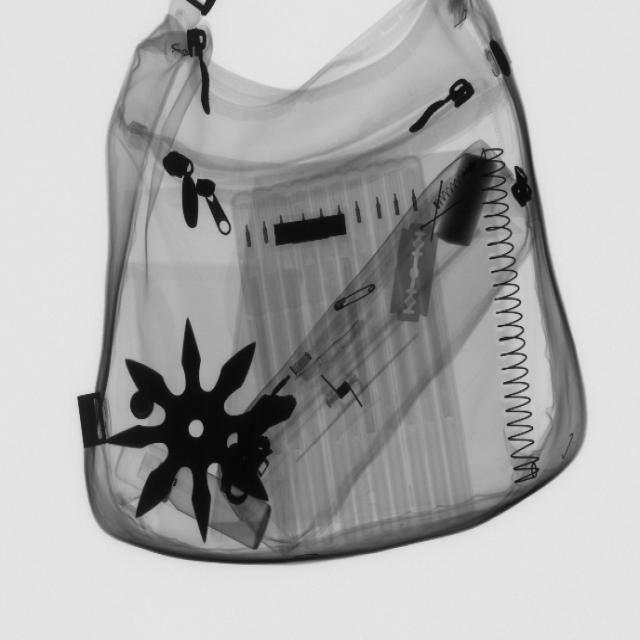BLADE: (386, 211, 443, 333)
SHURIKEN: (108, 316, 286, 547)
